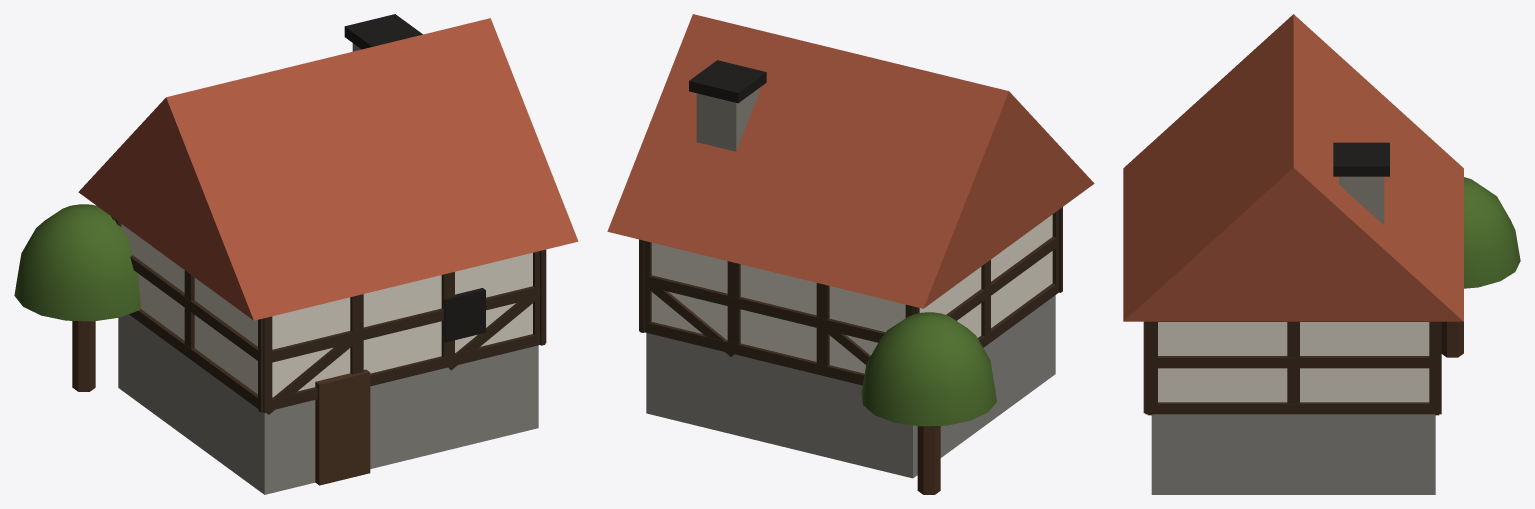
Rendered from house.glb.
3 views of the same model, side by side, from view 1: azimuth 30°, elevation 25°; view 2: azimuth 150°, elevation 25°; view 3: azimuth 270°, elevation 25° (orthographic). The views are drawn at different scales.
Visible parts, largest first — view 1: House; view 2: House; view 3: House.
Boxes of the visible parts, box(x1,y1,x2,y2) form: House: box(14, 14, 578, 494); House: box(607, 14, 1094, 494); House: box(1123, 14, 1520, 494).
Bounding box in the file's own units: 7.6 × 6.6 × 7.
